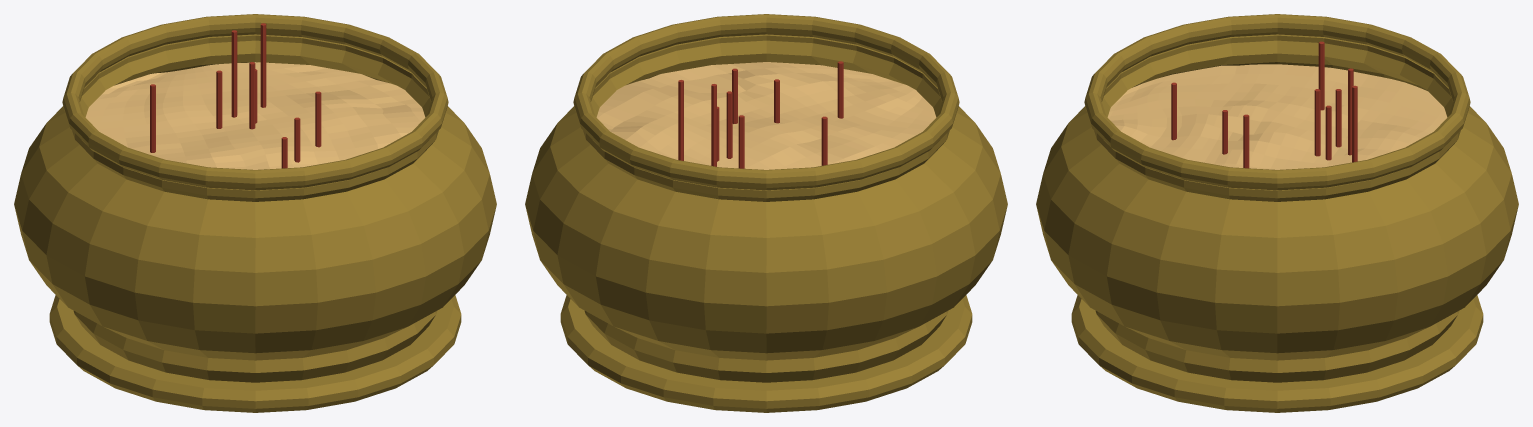
The picture shows the model from 3 angles, left to right: view 1: azimuth 30°, elevation 25°; view 2: azimuth 150°, elevation 25°; view 3: azimuth 270°, elevation 25°; orthographic projection.
Parts seen in each view (by area): view 1: Circle.001, Circle.002, Incense_stick.006, Incense_stick.005, Incense_stick.002; view 2: Circle.001, Circle.002, Incense_stick.006, Incense_stick.005, Incense_stick.002; view 3: Circle.001, Circle.002, Incense_stick.002, Incense_stick.005, Incense_stick.009.
Boxes of the visible parts, bbox=[...] form: Circle.001: bbox=[14, 14, 496, 412]; Circle.002: bbox=[85, 62, 425, 169]; Incense_stick.006: bbox=[231, 30, 237, 117]; Incense_stick.005: bbox=[260, 23, 266, 107]; Incense_stick.002: bbox=[249, 62, 255, 129]; Circle.001: bbox=[525, 14, 1007, 412]; Circle.002: bbox=[596, 62, 936, 169]; Incense_stick.006: bbox=[711, 84, 716, 166]; Incense_stick.005: bbox=[678, 80, 683, 160]; Incense_stick.002: bbox=[726, 91, 732, 158]; Circle.001: bbox=[1036, 14, 1518, 412]; Circle.002: bbox=[1107, 64, 1447, 169]; Incense_stick.002: bbox=[1314, 89, 1320, 156]; Incense_stick.005: bbox=[1352, 85, 1357, 162]; Incense_stick.009: bbox=[1318, 41, 1324, 110].
Size of the model in its own units: 163 by 99.74 by 163.
